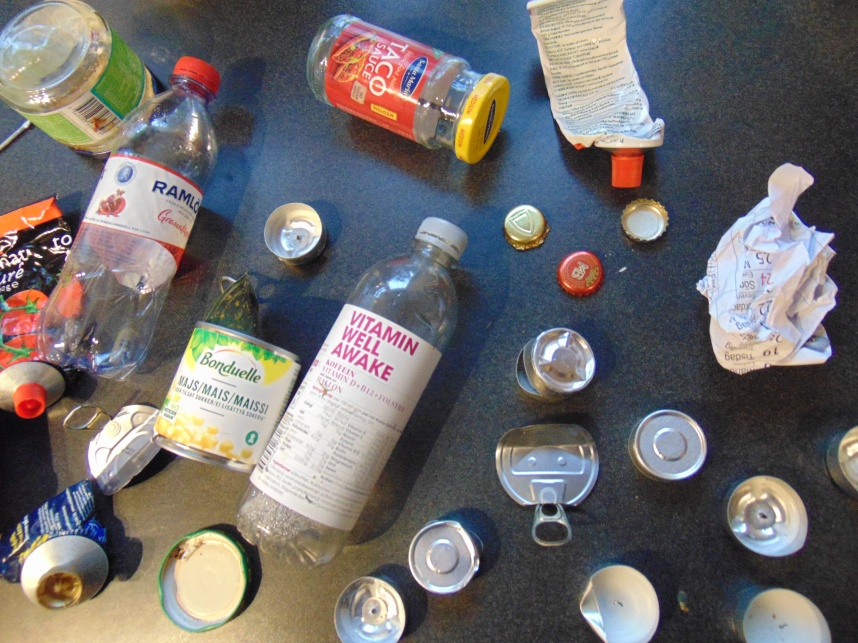glass_bottle: (307, 12, 510, 167), (1, 1, 159, 159)
metal: (523, 1, 663, 166), (1, 187, 73, 410), (1, 484, 112, 599), (494, 420, 596, 540), (65, 394, 167, 495), (154, 528, 248, 630), (719, 474, 814, 559), (411, 512, 488, 599), (579, 561, 660, 641), (627, 407, 708, 486), (734, 583, 833, 643), (331, 572, 408, 643), (258, 201, 325, 268), (210, 270, 263, 328), (554, 249, 608, 297), (502, 203, 548, 253), (618, 199, 669, 244), (827, 423, 858, 495), (1, 112, 36, 153)
metal_can: (151, 320, 310, 476)
plastic_bottle: (234, 216, 469, 569), (36, 56, 221, 378)
